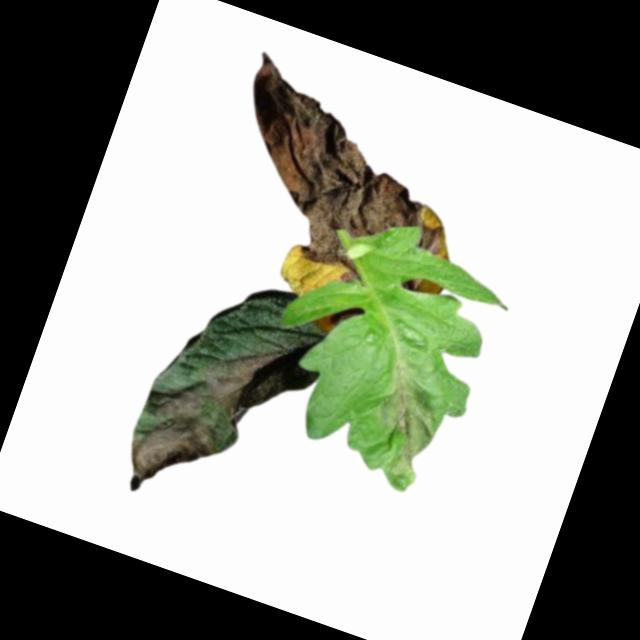Late_blight: (200, 56, 481, 306), (115, 378, 229, 515), (361, 365, 454, 485), (197, 329, 275, 421)
